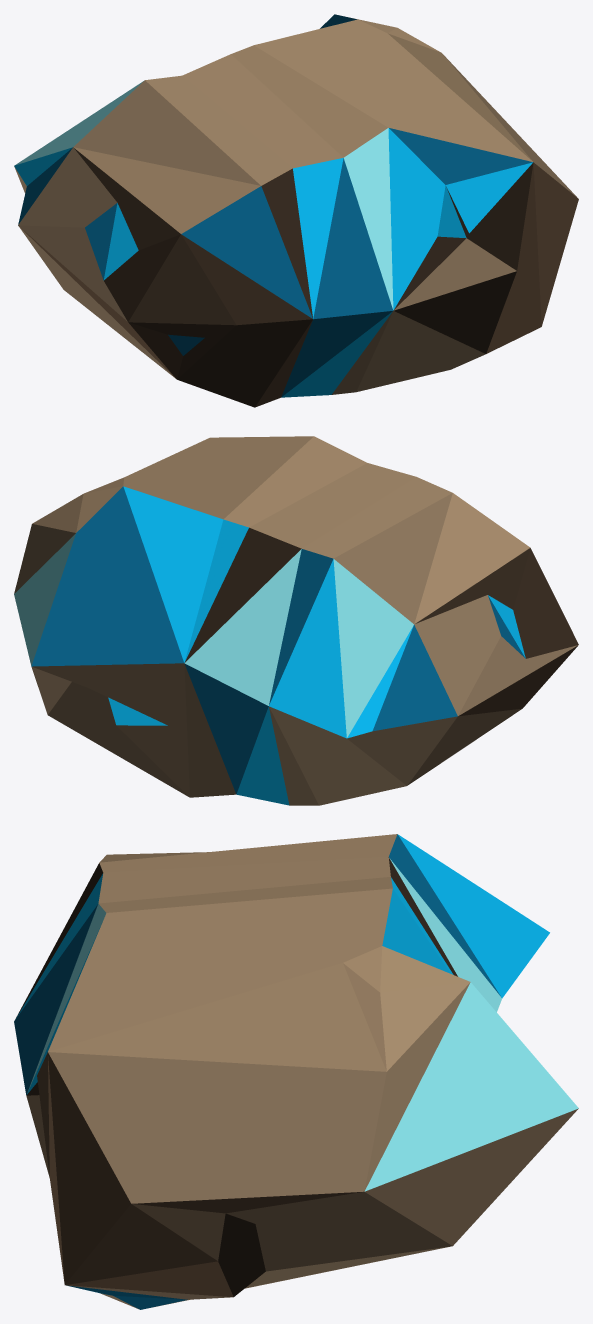
File: MithrilOreRock.glb
3 views of the same model, one above another, from view 1: azimuth 30°, elevation 25°; view 2: azimuth 150°, elevation 25°; view 3: azimuth 270°, elevation 25° (orthographic). The views are drawn at different scales.
Visible parts, largest first — view 1: MithrilOreRock_ExportDarkBrown; view 2: MithrilOreRock_ExportDarkBrown; view 3: MithrilOreRock_ExportDarkBrown.
Part boxes in pixels (bbox=[...]): MithrilOreRock_ExportDarkBrown: bbox=[14, 14, 578, 407]; MithrilOreRock_ExportDarkBrown: bbox=[14, 436, 578, 805]; MithrilOreRock_ExportDarkBrown: bbox=[14, 834, 578, 1309].
Bounding box in the file's own units: 0.2701 × 0.1591 × 0.2236.
